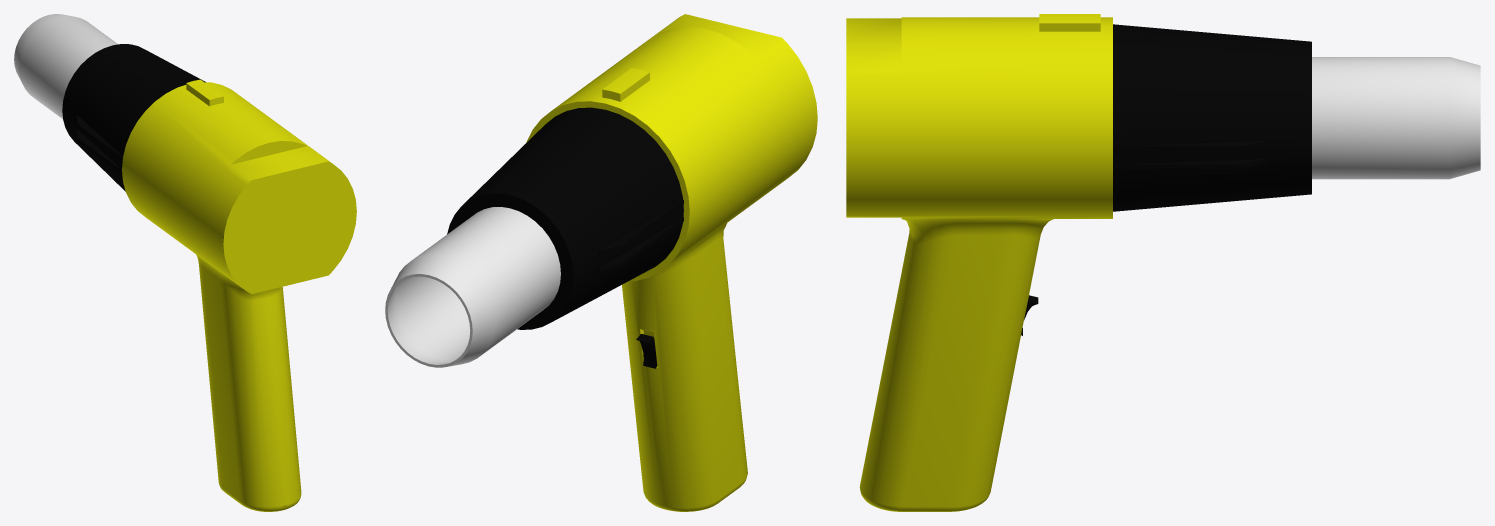
Rendered from Heat Gun_LP.fbx.
The picture shows the model from 3 angles, left to right: view 1: azimuth 30°, elevation 25°; view 2: azimuth 150°, elevation 25°; view 3: azimuth 270°, elevation 25°; orthographic projection. The views are drawn at different scales.
Parts seen in each view (by area): view 1: Heat Gun_LP; view 2: Heat Gun_LP; view 3: Heat Gun_LP.
Part boxes in pixels (<box>): Heat Gun_LP: <box>14,14,356,511</box>; Heat Gun_LP: <box>385,14,817,511</box>; Heat Gun_LP: <box>846,14,1480,511</box>.
Size of the model in its own units: 6.61 by 17.24 by 20.7.
